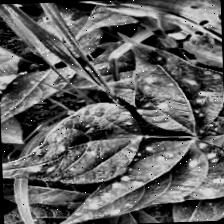Bean Rust: (50, 137, 224, 224), (0, 103, 141, 186), (119, 24, 224, 135), (0, 35, 21, 78)
